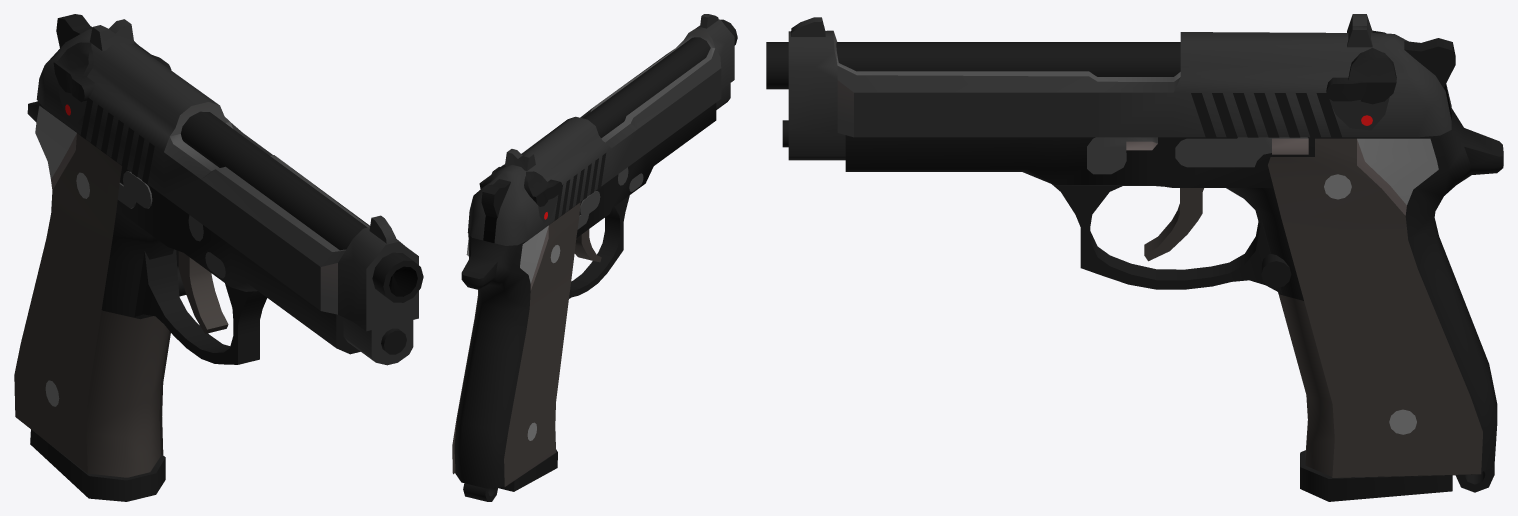
File: Pistol.fbx
The picture shows the model from 3 angles, left to right: view 1: azimuth 30°, elevation 25°; view 2: azimuth 150°, elevation 25°; view 3: azimuth 270°, elevation 25°; orthographic projection. The views are drawn at different scales.
Visible parts, largest first — view 1: trigger; view 2: trigger; view 3: trigger.
Part boxes in pixels (x1,y1,x2,y2): trigger: [14, 14, 423, 501]; trigger: [452, 14, 737, 501]; trigger: [766, 14, 1503, 501].
Size of the model in its own units: 3.22 by 16.07 by 23.1.
